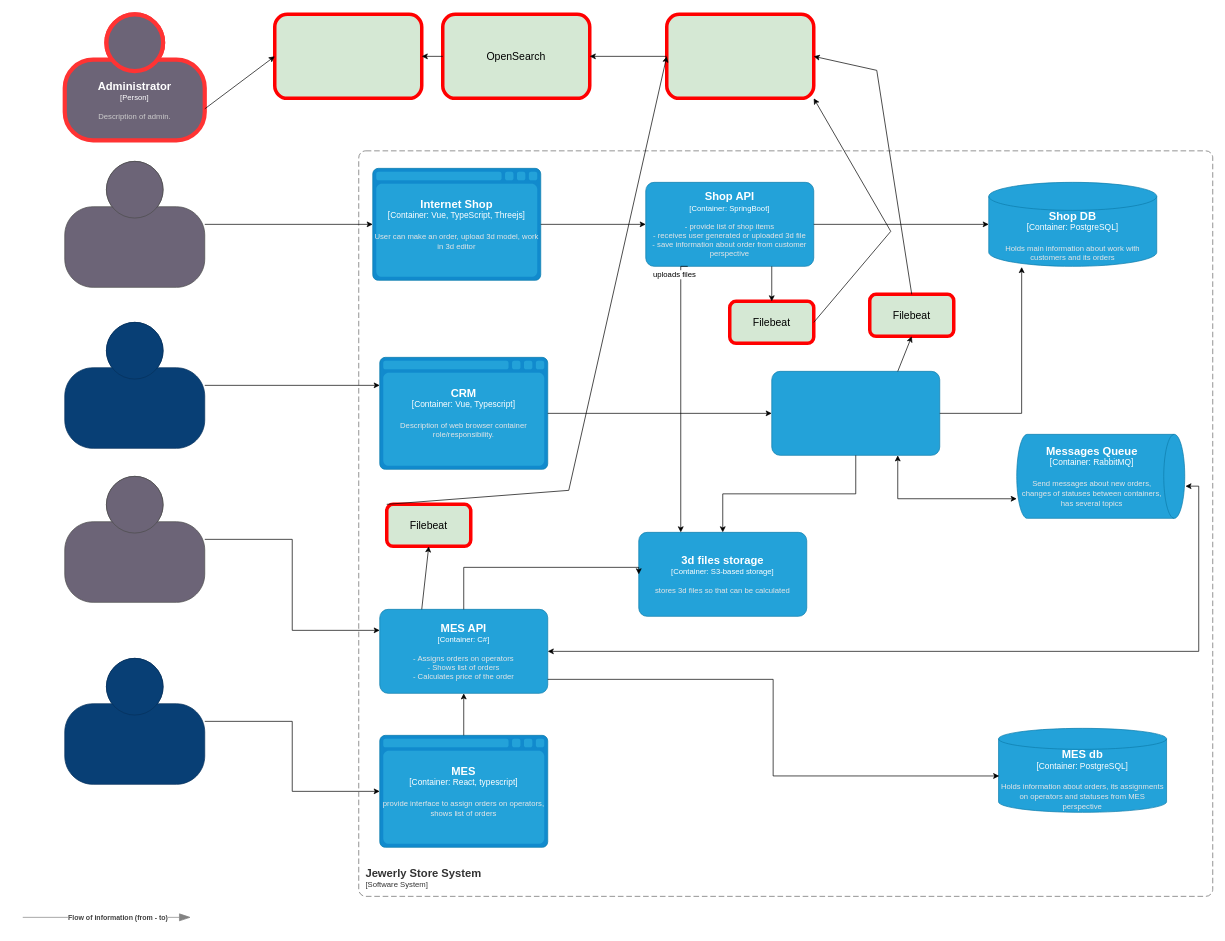
This 1225x941 diagram has some shape labels left out. The shapes that lost their labels are listed below. From the top down, each one's centre as x and y in pixels, then its label:
At pixel 348 56: "Kibana".
At pixel 740 56: "Logstash".
At pixel 134 224: "Customer [Person] Description of external person.".
At pixel 134 385: "Seller [Person] Operates with order, confirms manufacturing for the user".
At pixel 855 413: "CRM API [Container: SpringBoot] Description of container role/responsibility.".
At pixel 134 539: "API user [Person] Description of external person.".
At pixel 134 721: "Operator [Person] Takes order in work, manufactures jewerly".
